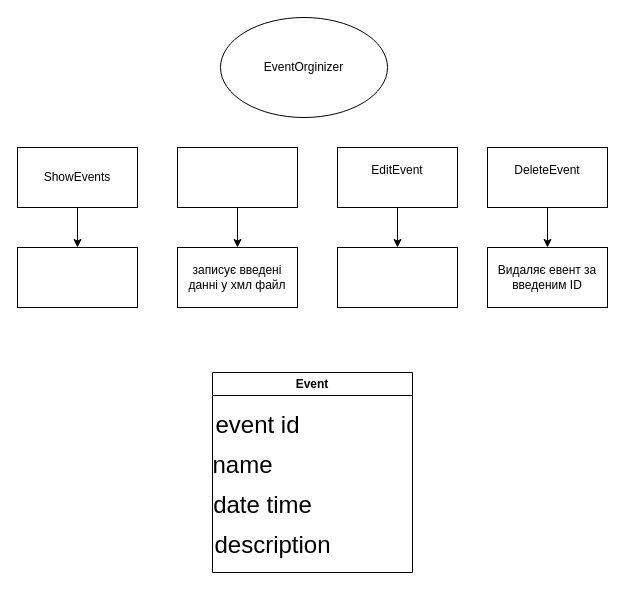
Image size: 625x590. Some labels were removed from this diagram. The centre of each missing label's shape, as x and y in pixels:
AddEvent: point (237, 177)
Виводить данні усіх евентів: point (77, 277)
Змінює данні евента за введеним ID: point (397, 277)
